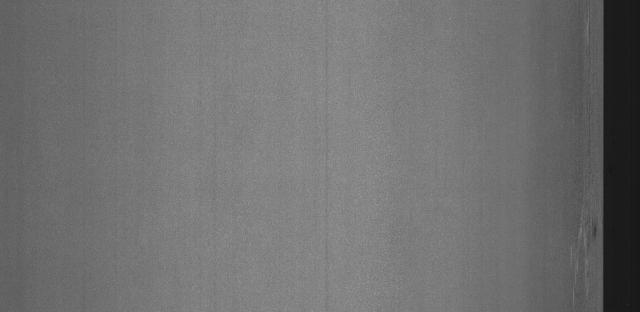silk_spot: (543, 192, 597, 300)
